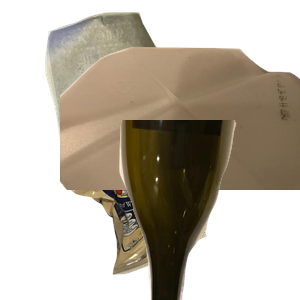glass: (117, 120, 300, 300)
paper: (43, 10, 221, 185)
plastic: (60, 44, 300, 224)
trash: (61, 127, 260, 300)
